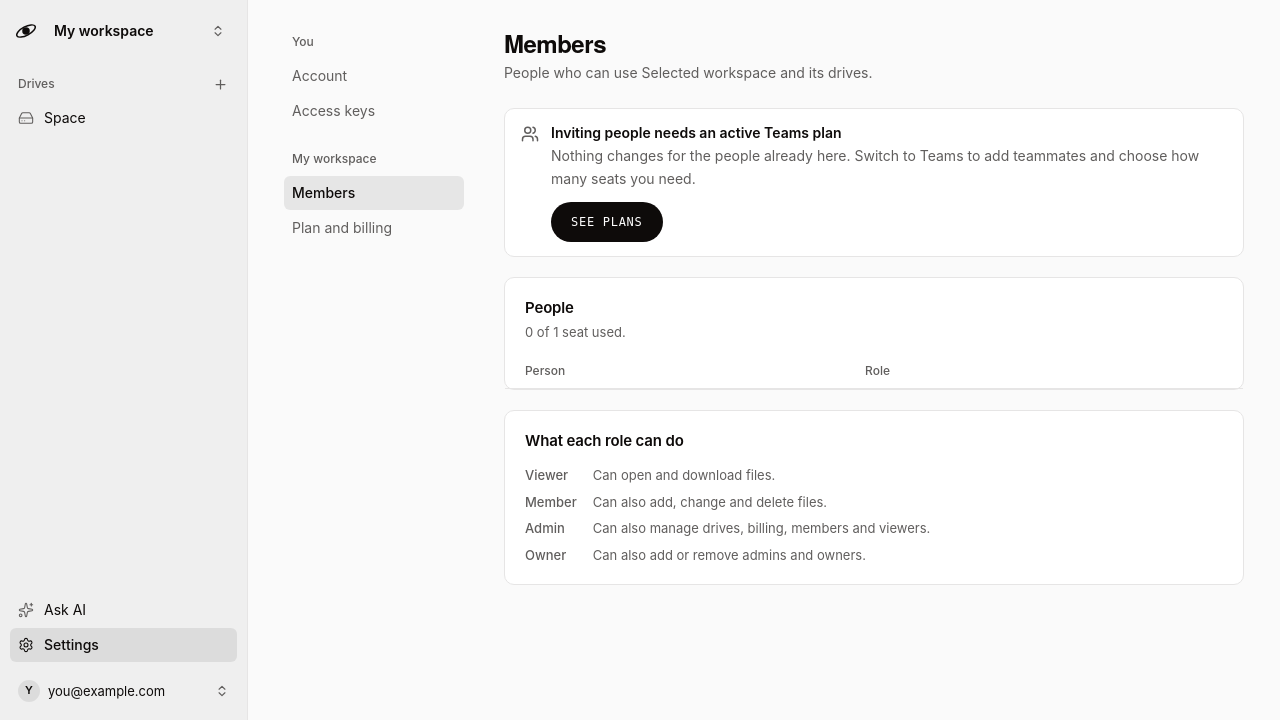
switches workspace from the sidebar and shows that workspace's drives
Expected: the link "Space" is shown, top-left (18, 109), bottom-right (86, 126)
Click the button with aria-label "Switch workspace" at (140, 31), box top-left (46, 14), bottom-right (233, 48)
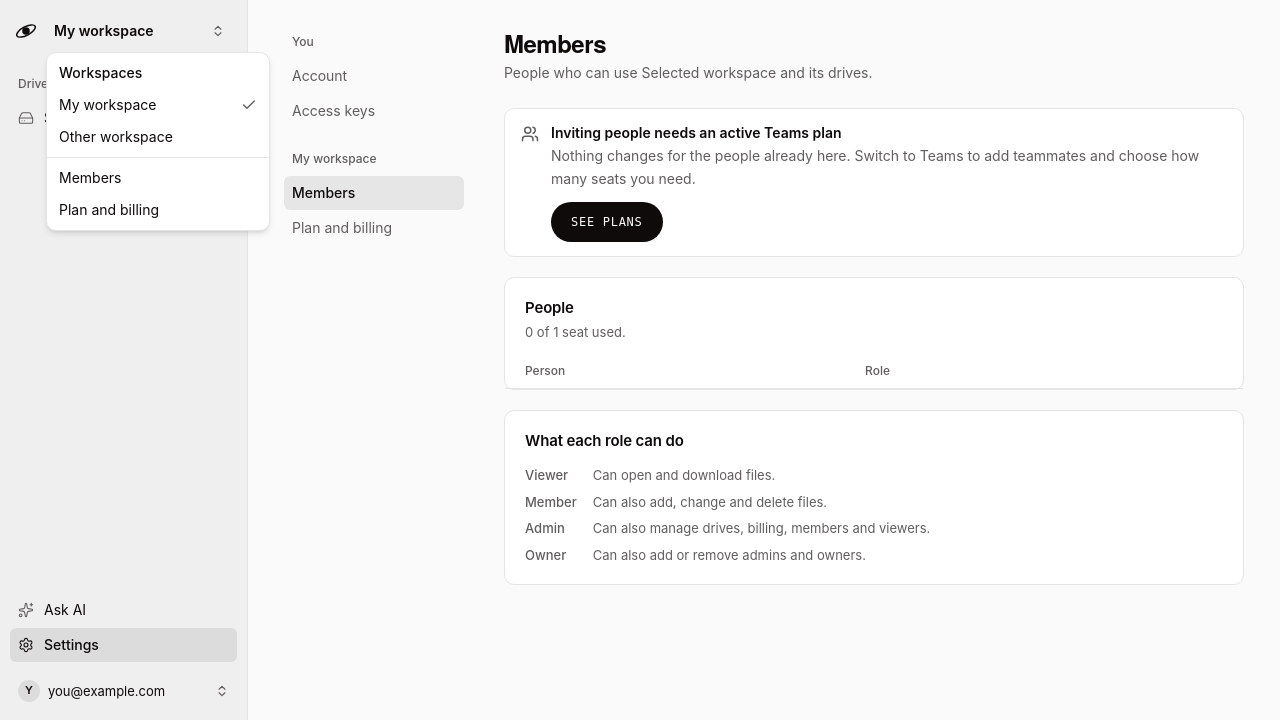
Click the menu item "Other workspace" at (116, 136), box top-left (59, 128), bottom-right (173, 145)
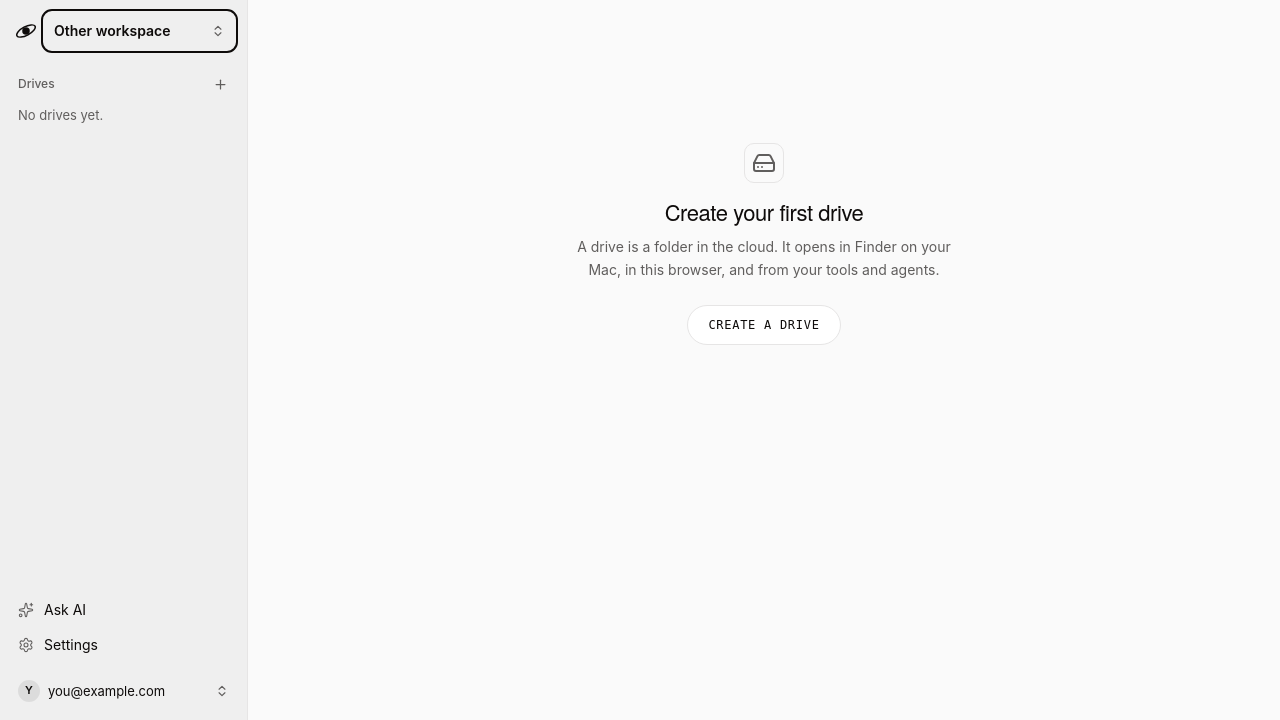
Now the heading "Create your first drive" is shown, box top-left (665, 199), bottom-right (863, 224)
